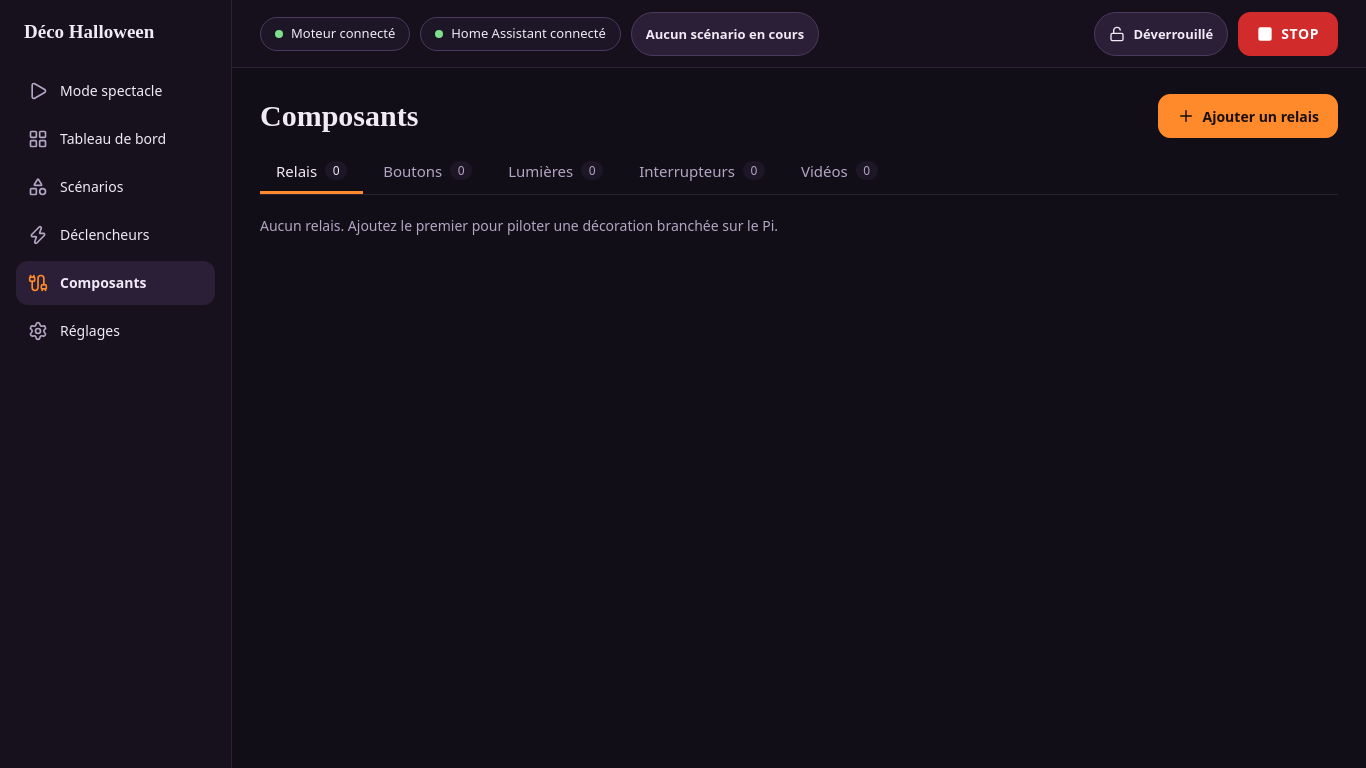
Test case: déverrouillé avec un code défini : un clic verrouille, sans demander le code
Check: the text "Moteur connecté" is shown, box [260,16,410,50]
Click the button "Déverrouillé". click: (1161, 34)
box: [1094,12,1228,56]
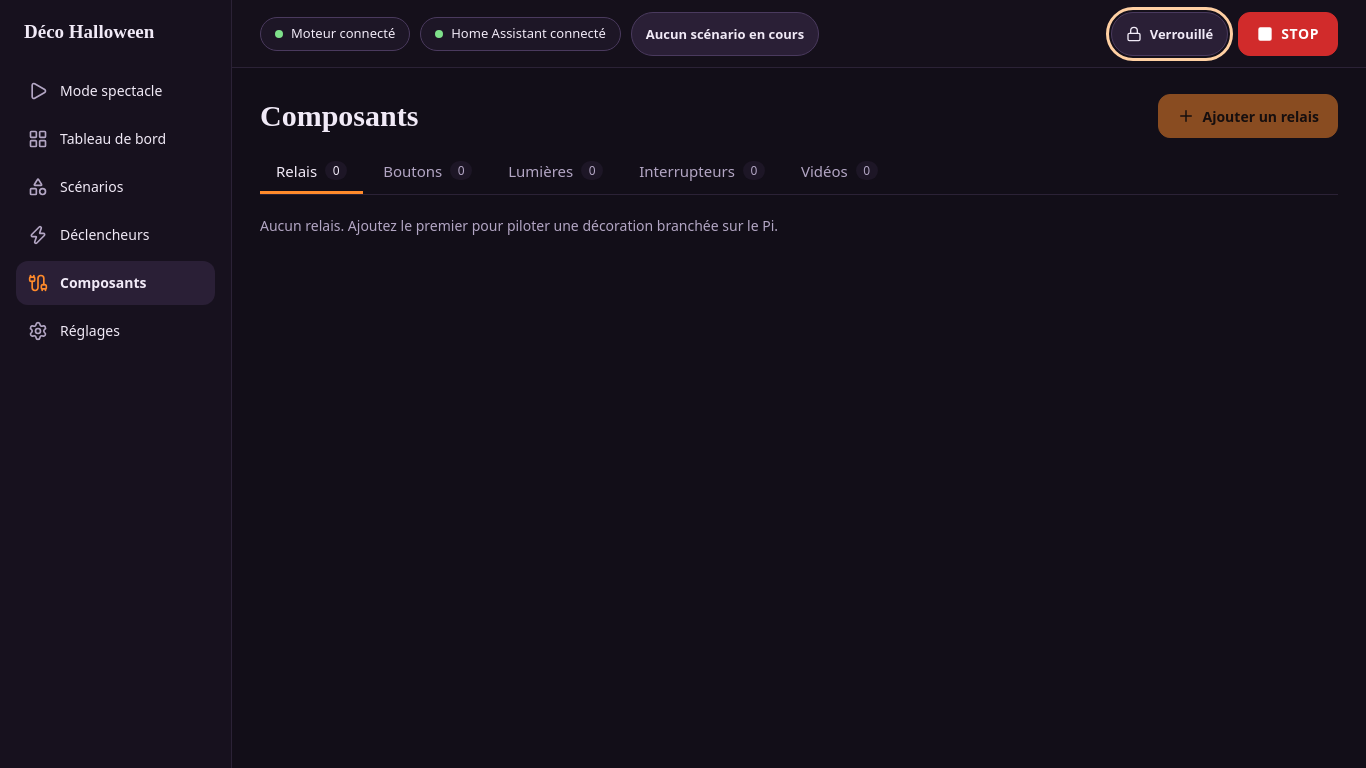
Check: the button with aria-label "Verrouillé : saisir le code" is shown, box [1111,12,1228,56]
